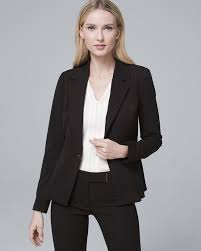F_W_suit jacket: (28, 48, 166, 215)
